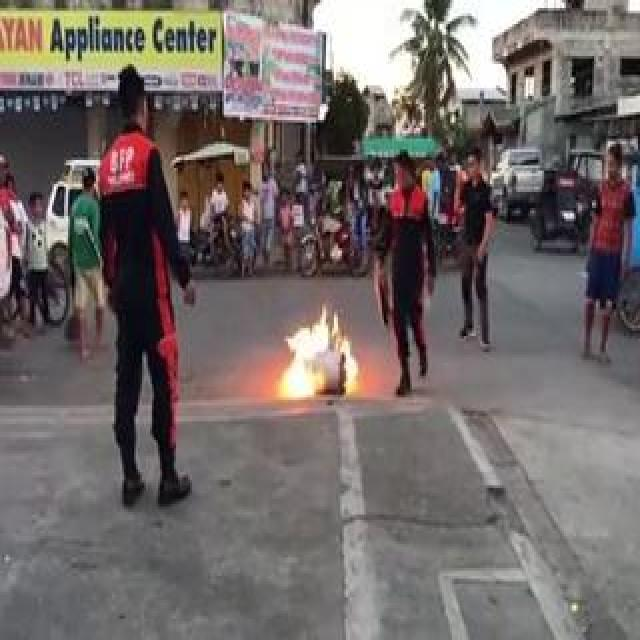Smoke: (270, 304, 362, 403)
